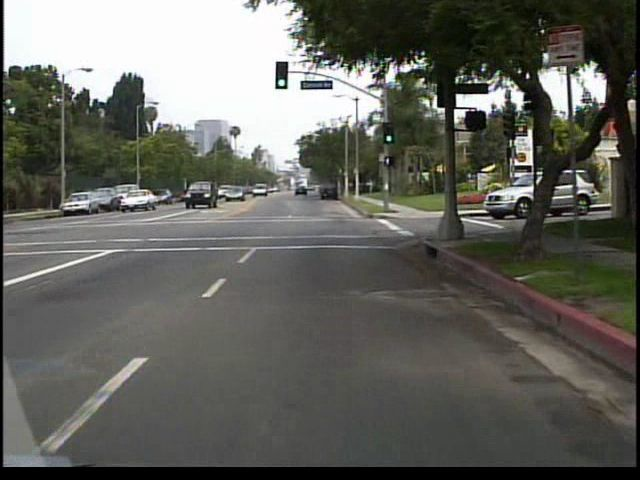person: (358, 176, 367, 199), (368, 175, 377, 195)
